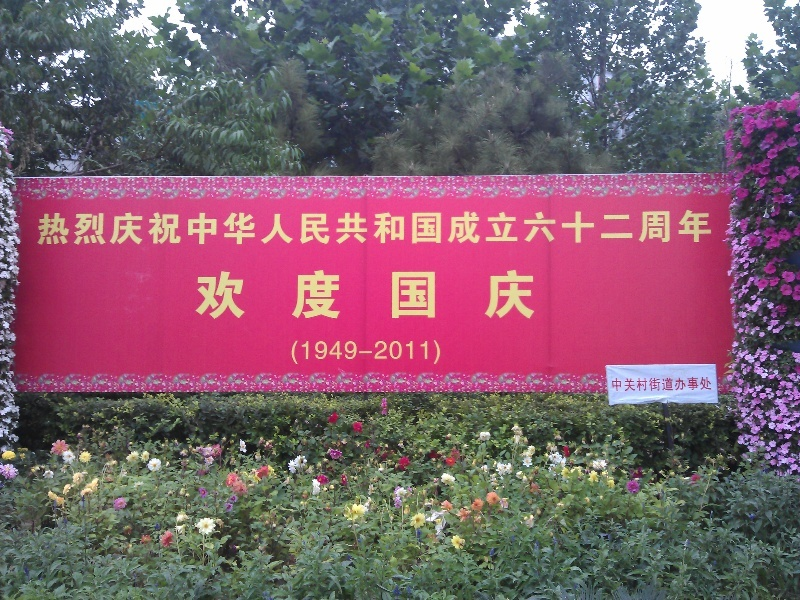text: (209, 271, 224, 320), (225, 271, 240, 320), (241, 271, 256, 320), (257, 271, 272, 320), (273, 271, 288, 320), (289, 271, 304, 320), (305, 271, 320, 320), (321, 271, 336, 320), (337, 271, 352, 320), (353, 271, 368, 320), (369, 271, 384, 320), (385, 271, 400, 320), (401, 271, 416, 320), (417, 271, 432, 320), (433, 271, 448, 320), (449, 271, 464, 320), (465, 271, 480, 320), (481, 271, 496, 320), (497, 271, 512, 320), (513, 271, 528, 320), (196, 271, 208, 320), (49, 210, 64, 247), (65, 210, 80, 247), (81, 210, 96, 247), (97, 210, 112, 247), (113, 210, 128, 247), (129, 210, 144, 247), (145, 210, 160, 247), (161, 210, 176, 247), (177, 210, 192, 247), (193, 210, 208, 247), (209, 210, 224, 247), (225, 210, 240, 247), (241, 210, 256, 247), (257, 210, 272, 247), (273, 210, 288, 247), (289, 210, 304, 247), (305, 210, 320, 247), (321, 210, 336, 247), (337, 210, 352, 247), (353, 210, 368, 247), (369, 210, 384, 247), (385, 210, 400, 247), (401, 210, 416, 247), (417, 210, 432, 247), (433, 210, 448, 247), (449, 210, 464, 247), (465, 210, 480, 247), (481, 210, 496, 247), (497, 210, 512, 247), (513, 210, 528, 247), (529, 210, 544, 247), (545, 210, 560, 247), (561, 210, 576, 247), (577, 210, 592, 247), (593, 210, 608, 247), (609, 210, 624, 247), (625, 210, 640, 247), (641, 210, 656, 247), (657, 210, 672, 247), (673, 210, 688, 247), (689, 210, 704, 247), (37, 210, 48, 247), (305, 338, 320, 365), (321, 338, 336, 365), (337, 338, 352, 365), (353, 338, 368, 365), (369, 338, 384, 365), (385, 338, 400, 365), (401, 338, 416, 365), (417, 338, 432, 365), (290, 338, 304, 365), (529, 271, 535, 320), (625, 376, 640, 393), (641, 376, 656, 393), (657, 376, 672, 393), (673, 376, 688, 393), (689, 376, 704, 393), (705, 210, 711, 247), (611, 376, 624, 393), (433, 338, 441, 365), (705, 376, 713, 393)
